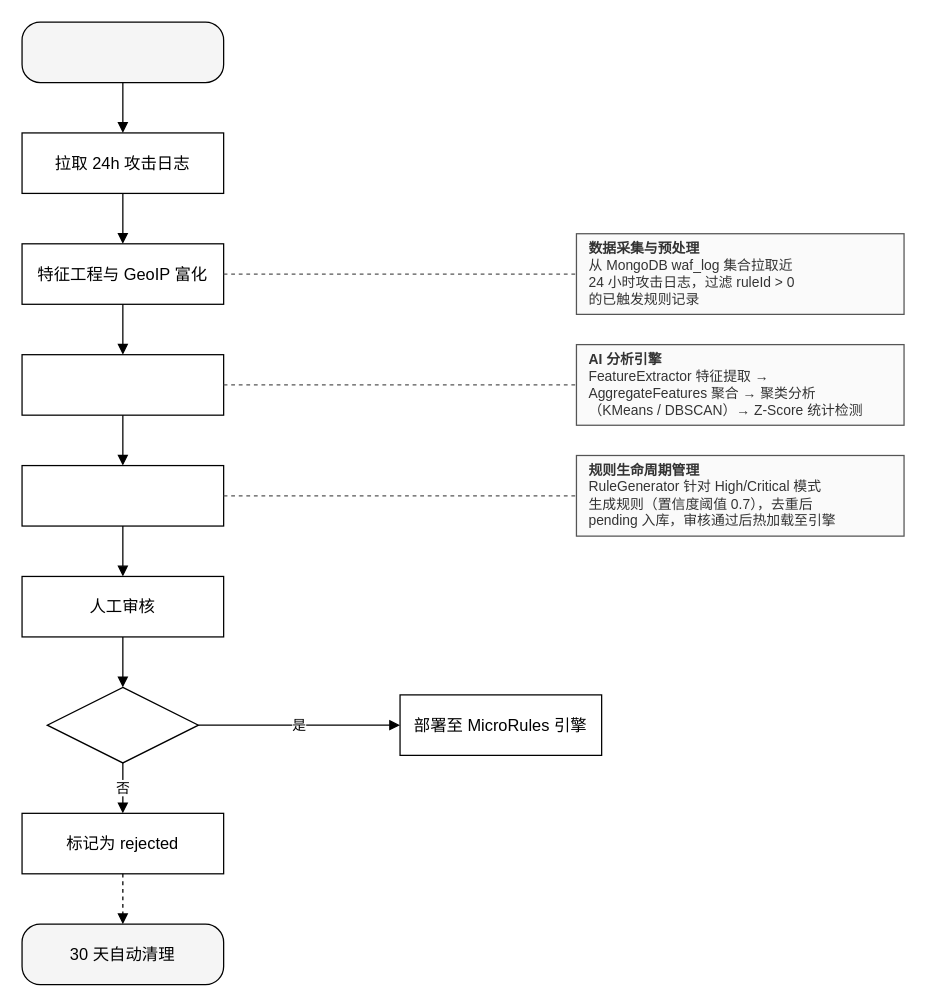
Image size: 926x1007. Some labels were removed from this diagram. Here are the shapes that lost their labels. From the top down, the centre of each, then its label:
At point 122,52: "定时任务 / 手动触发".
At point 122,384: "模式检测与严重度分级".
At point 122,495: "规则生成与去重".
At point 122,724: "通过？".
